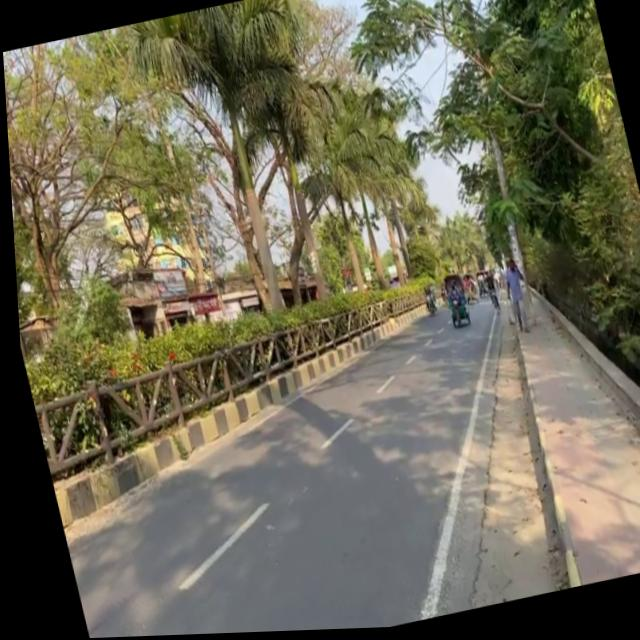Construction-barrier: (17, 284, 468, 534), (414, 290, 569, 609), (518, 256, 640, 586), (478, 295, 574, 596)
Fallen-tree: (439, 293, 468, 332), (418, 293, 434, 320), (483, 289, 496, 313)
Garbage-bin: (494, 259, 531, 339)
Pothole: (353, 248, 640, 620)
